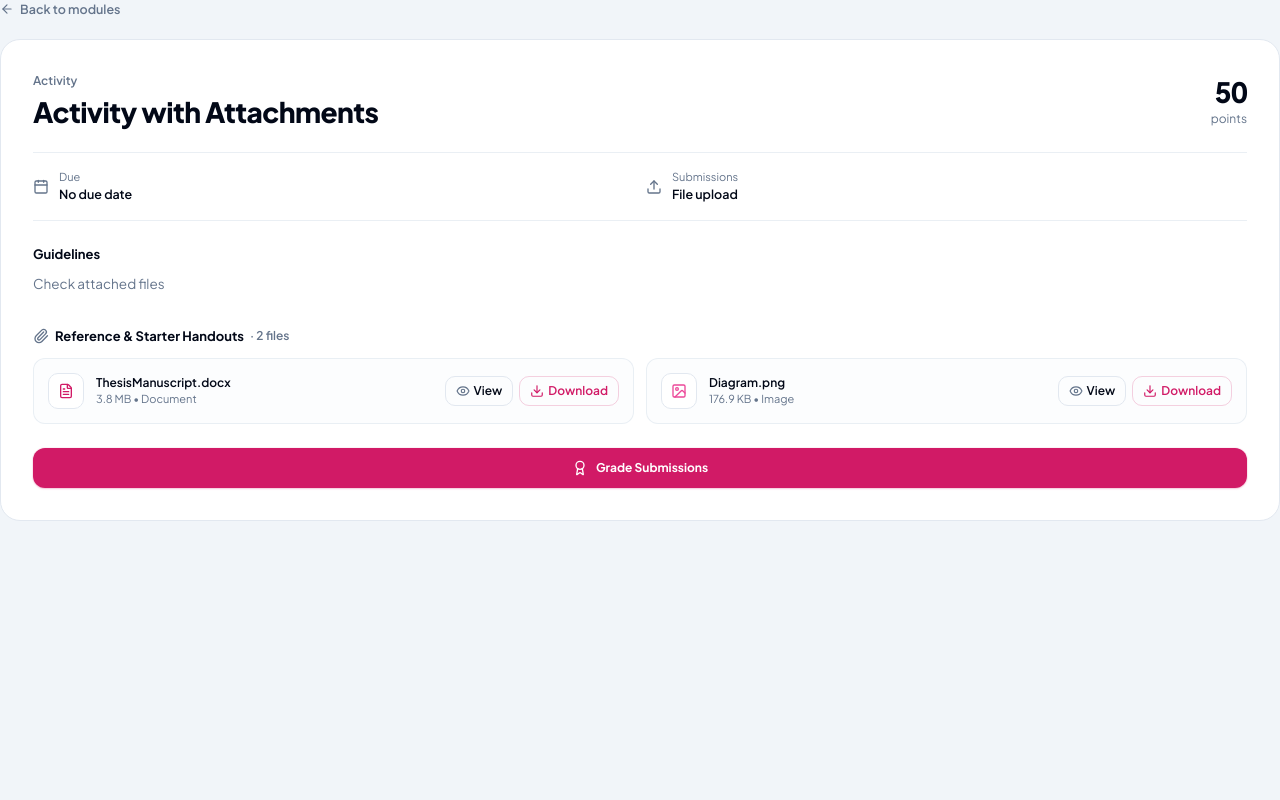
Test: ActivitiesView term filter › renders attached files with View and Download buttons and opens preview modal on View click
Expected: the text "Reference & Starter Handouts" is shown, [55, 327, 244, 346]
Expected: the text "ThesisManuscript.docx" is shown, [96, 375, 231, 391]
Click the 1st button "View" at (479, 391), box [445, 376, 513, 406]
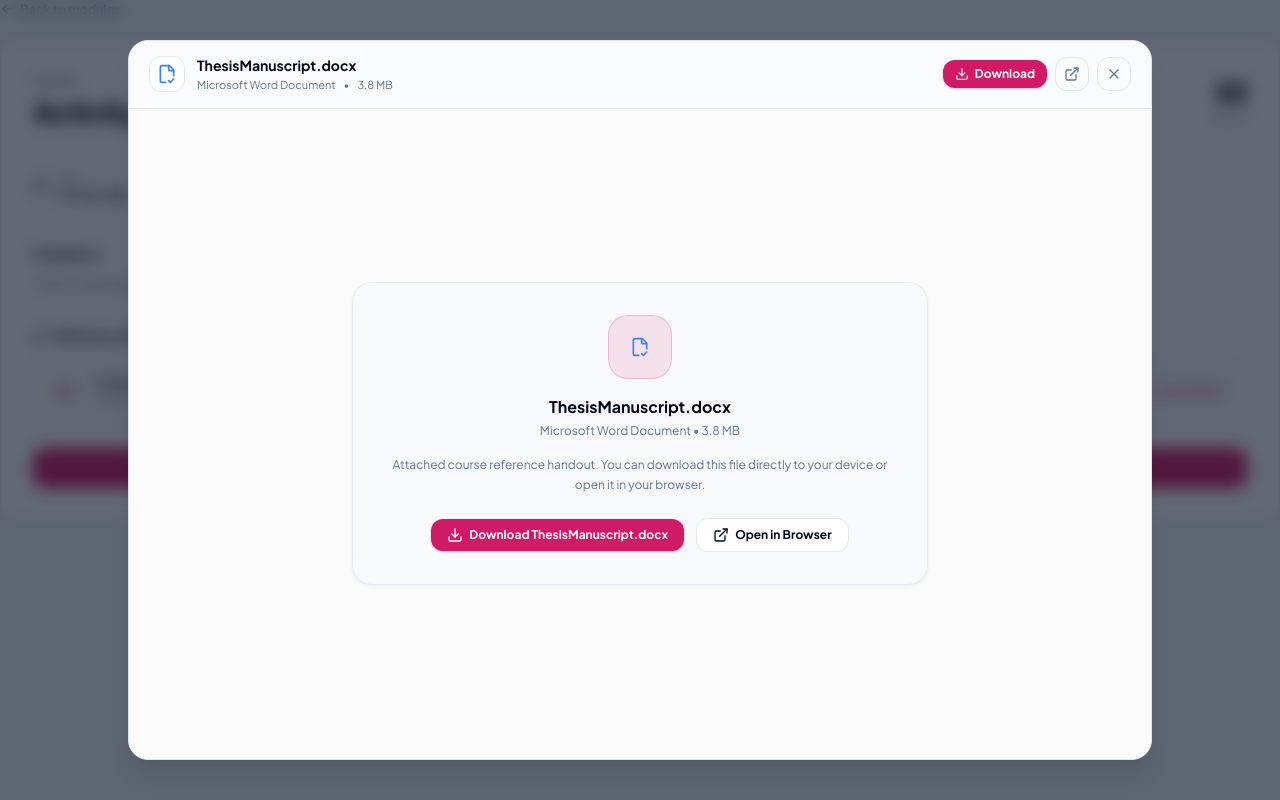
Expected: the dialog named "preview of ThesisManuscript.docx" is shown
